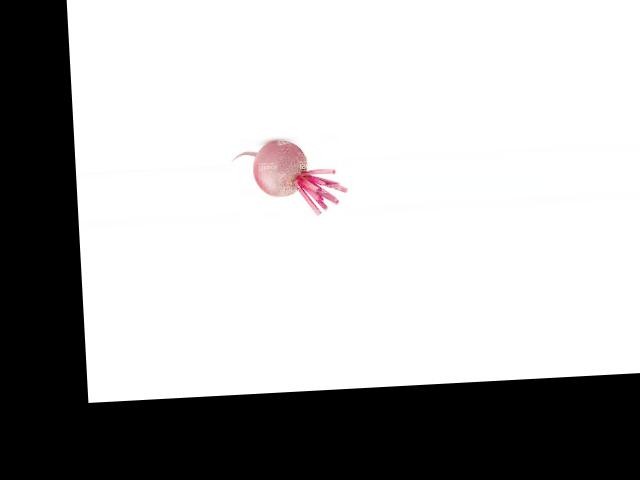beet: (231, 137, 349, 219)
